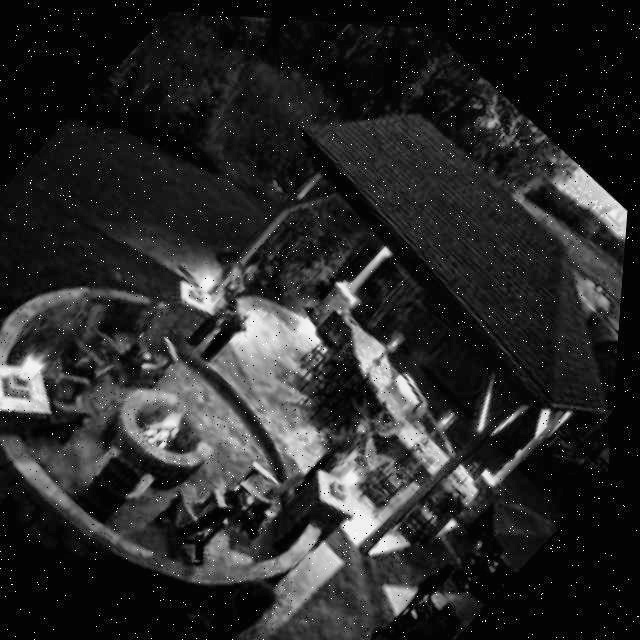Fire: (132, 390, 206, 465)
